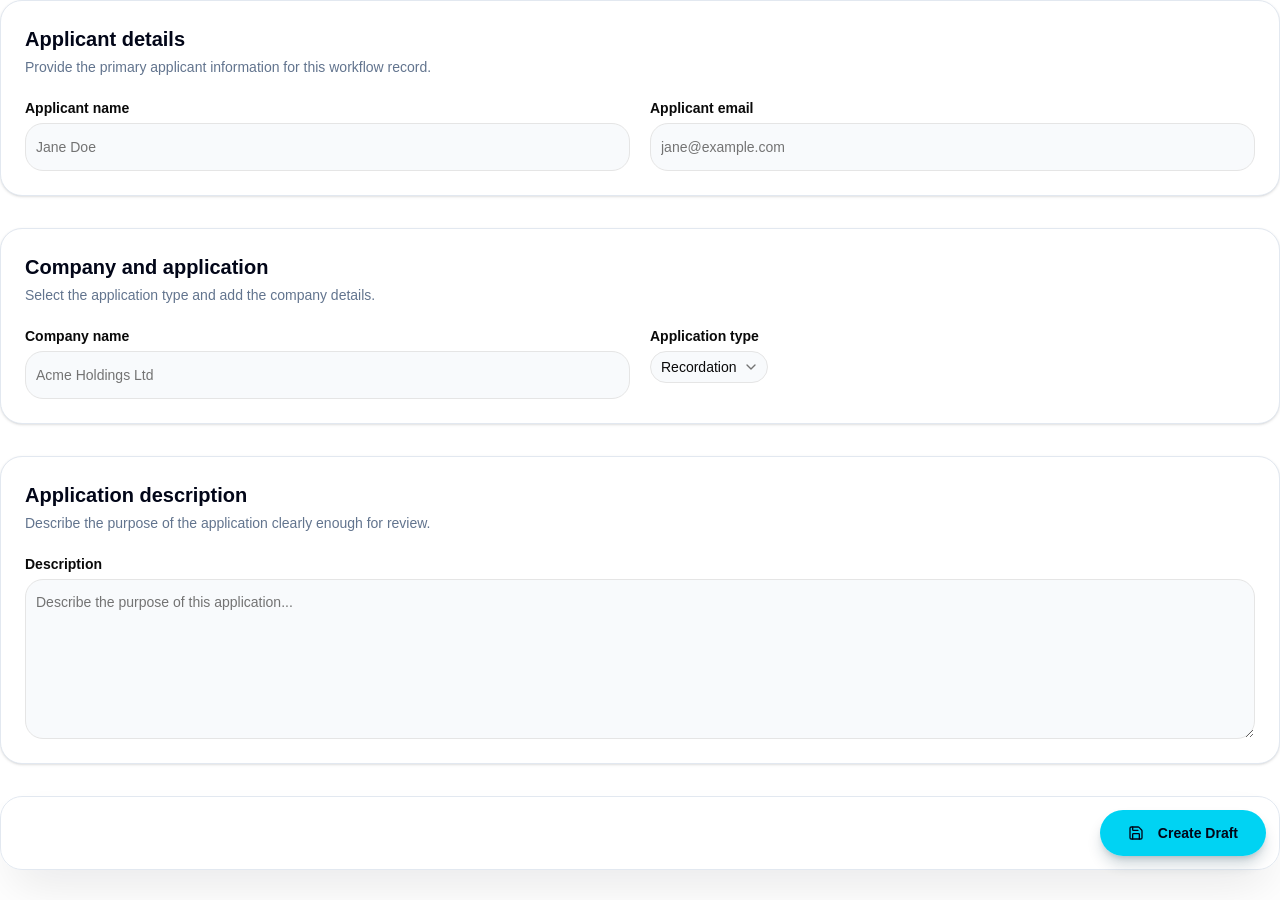
Test: ApplicationForm › shows validation messages when required fields are empty
The width and height of the screenshot is (1280, 900).
Click the button "Create Draft".
click(1183, 833)  # box [1099,809,1267,857]
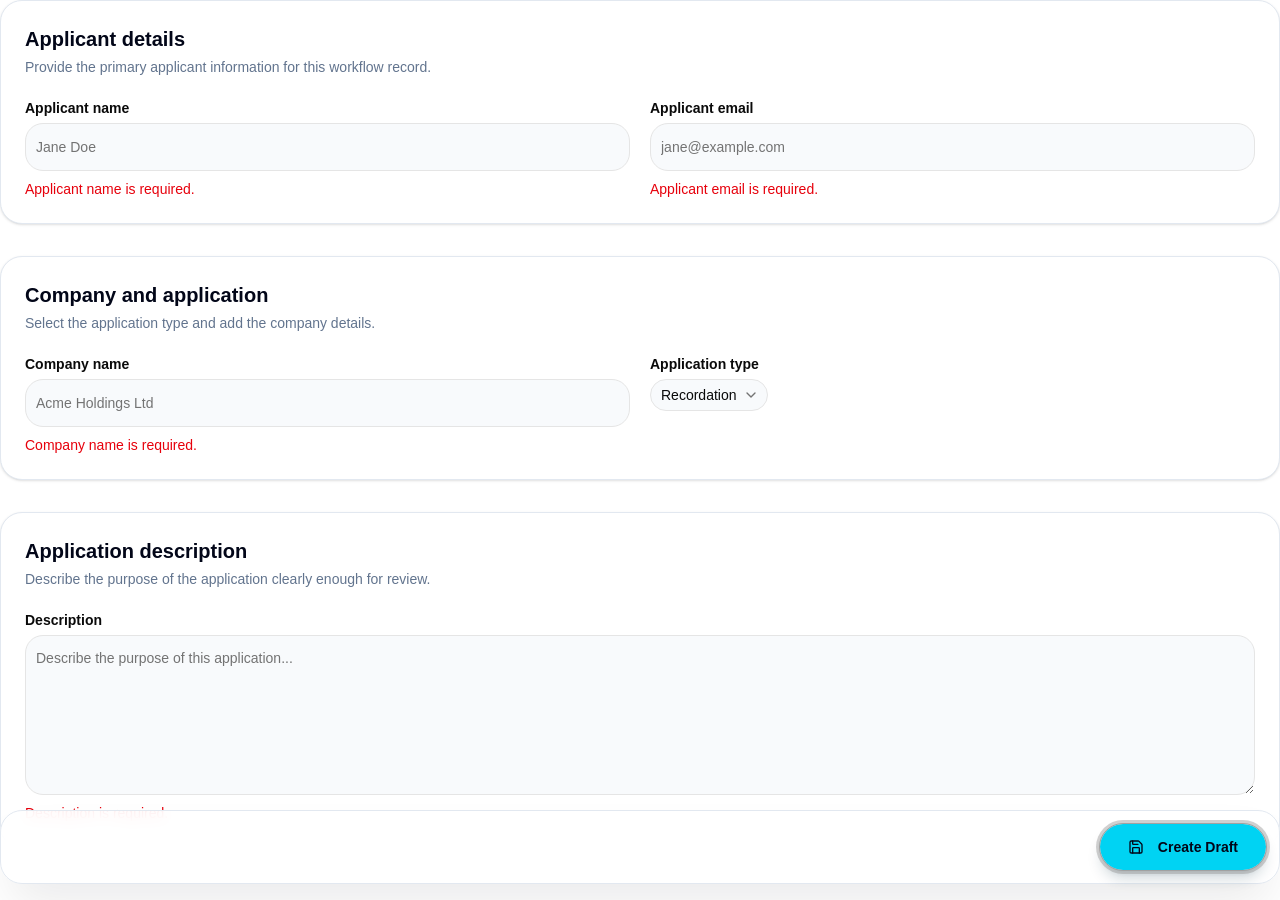
Check: the text "Applicant name is required." is shown, box [25,181,195,197]
Check: the text "Applicant email is required." is shown, box [650,181,818,197]
Check: the text "Company name is required." is shown, box [25,437,197,453]
